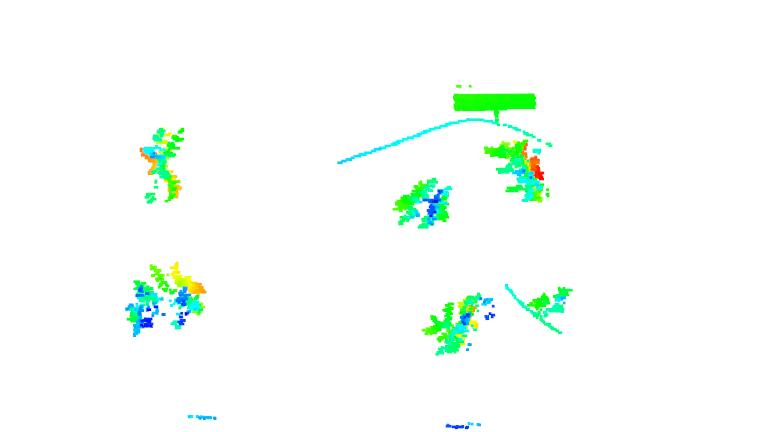chickpea: (125, 259, 208, 338), (483, 134, 553, 204), (422, 291, 497, 356), (137, 122, 186, 205), (392, 173, 454, 229), (524, 284, 578, 319)
